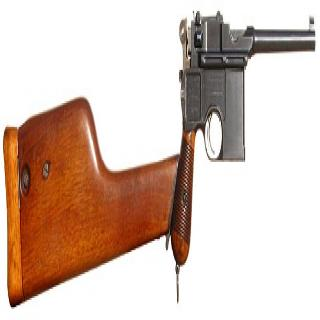gun: (6, 0, 315, 309)
